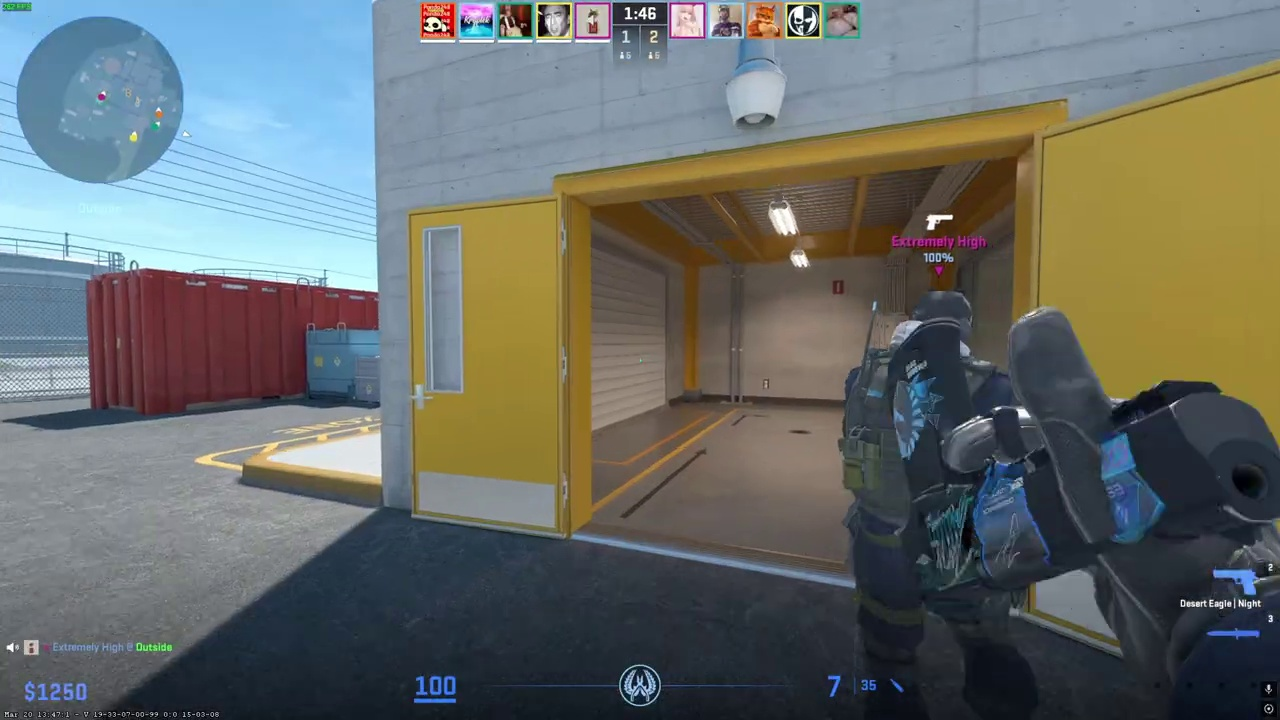CT: (842, 289, 1023, 719)
